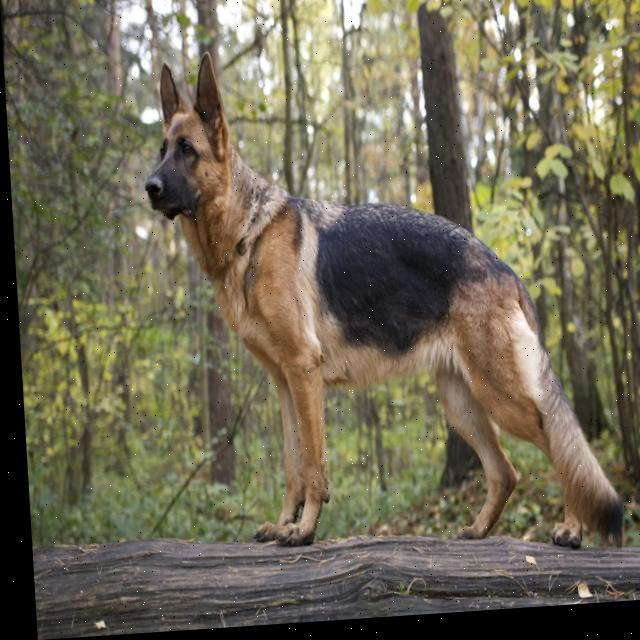GERMAN_SHEPHERD: (121, 27, 623, 595)
